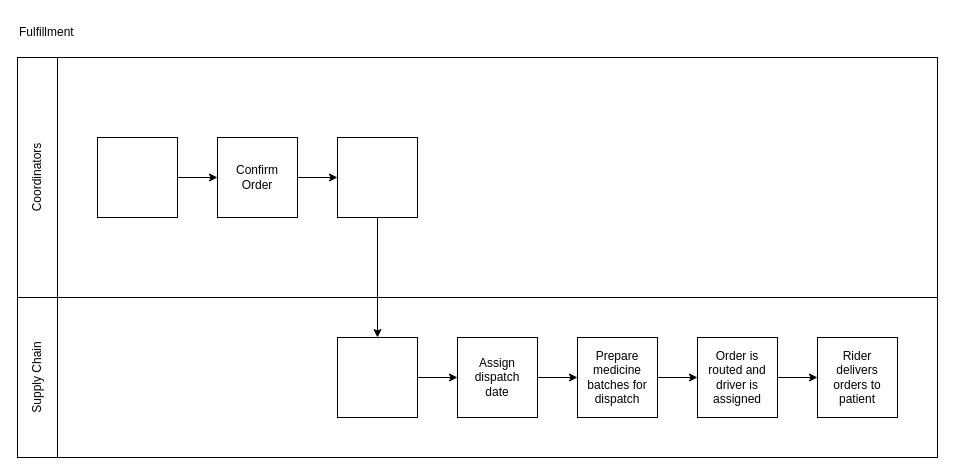
The diagram is 955 pixels wide and 475 high, and some of its shapes have lost their labels. The centre of each missing label's shape, as x and y in pixels:
"Export CSV" belongs at point 377,177.
"Extract orders via Airtable" belongs at point 377,377.
"Verify proof of payment" belongs at point 137,177.
